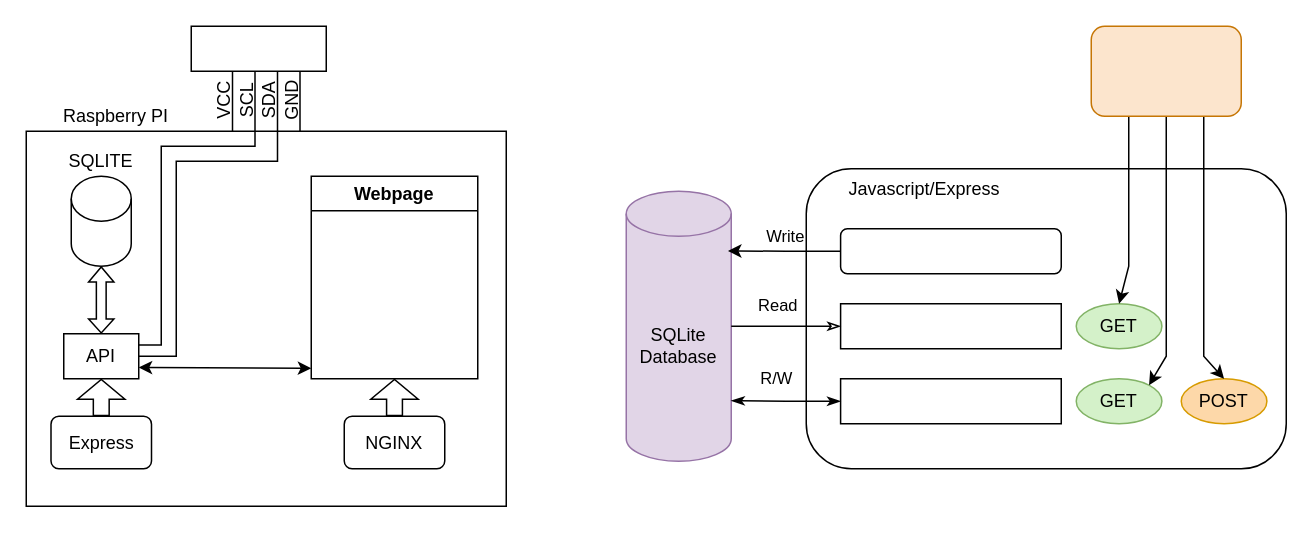
Some shapes in this 1313 by 533 pixel diagram are drawn without their labels. The shapes that lost their labels are listed below. From the top down, each one's centre as x and y in pixels, then its label:
At (258,48): "BMP280".
At (1165,70): "Web Frontend".
At (950,250): "Interface Pressure".
At (950,325): "/api/pressure/history".
At (950,400): "/api/migraine".
